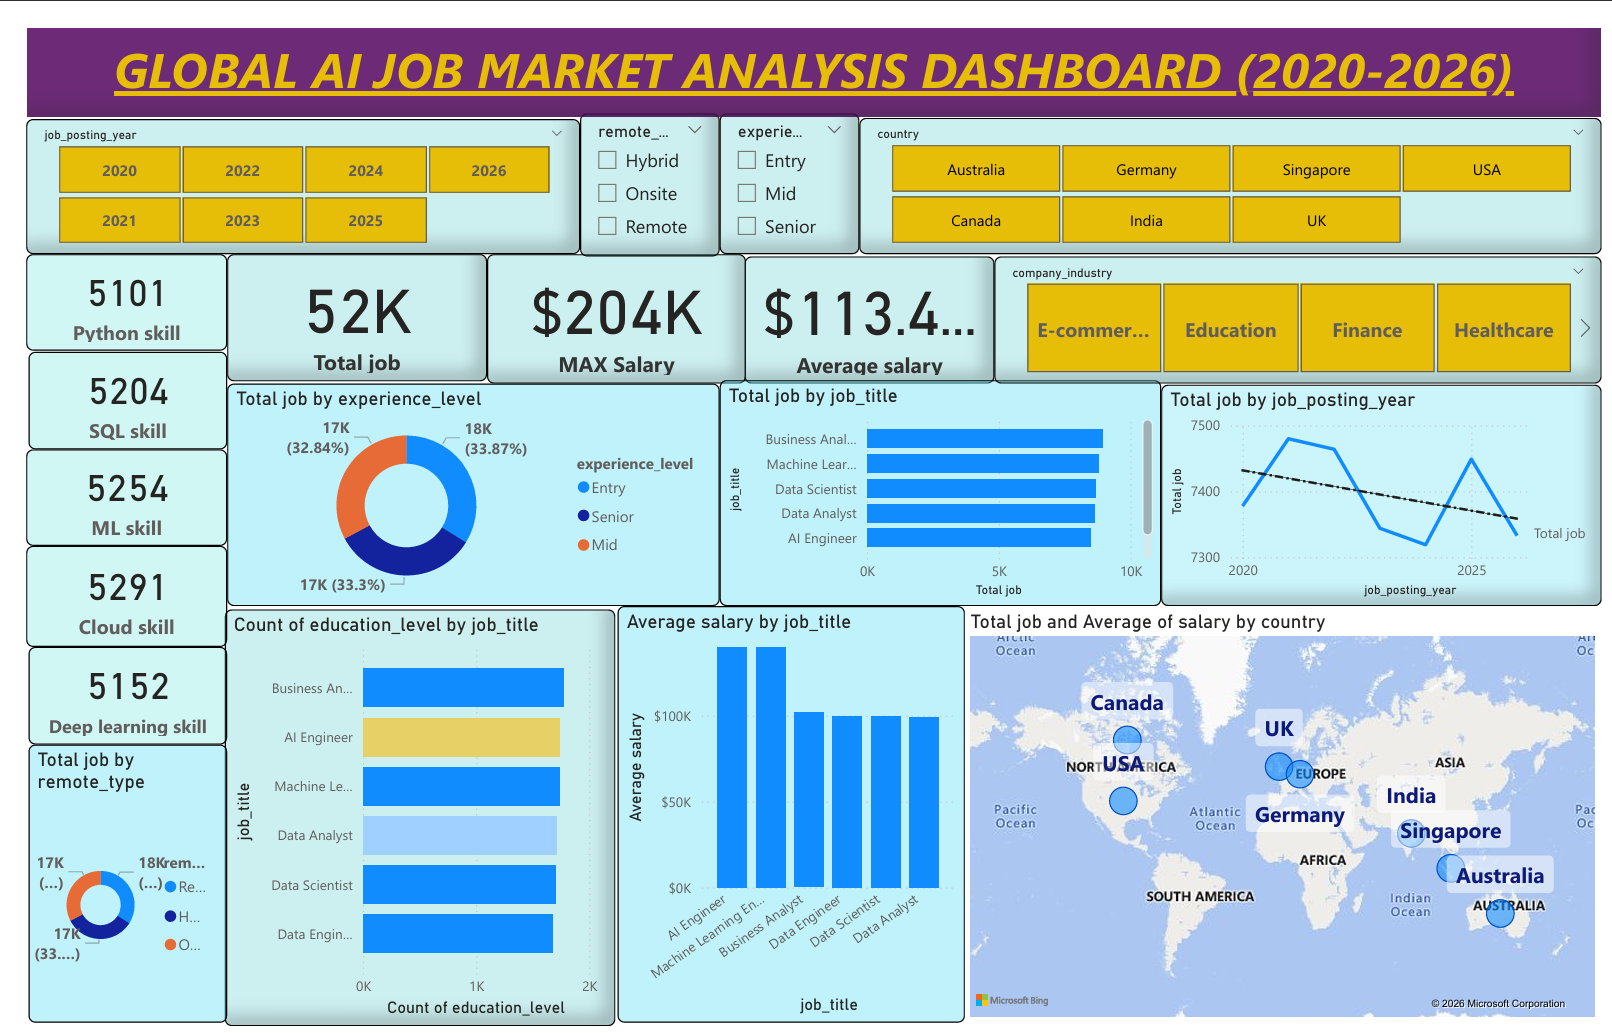

Layout of this report page (visuals, bound fields, positions):
{"tool":"powerbi","page":{"name":"Page 1","canvas":[1388,889],"ordinal":0},"visuals":[{"type":"card","fields":{"Values":["AI Job Market Dataset.MAX Salary"]},"box":[406.2,199.3,228,113.2],"z":0},{"type":"card","fields":{"Values":["AI Job Market Dataset.Total job"]},"box":[176.7,199.3,229.5,111.7],"z":1000},{"type":"card","fields":{"Values":["AI Job Market Dataset.Average salary"]},"box":[632.6,200.8,220.4,111.7],"z":2000},{"type":"lineChart","fields":{"Category":["AI Job Market Dataset.job_posting_year"],"Y":["AI Job Market Dataset.Total job"]},"box":[999.5,314.1,388,194.8],"z":3000},{"type":"map","fields":{"Category":["AI Job Market Dataset.country"],"Y":["AI Job Market Dataset.Total job"],"Size":["Avg(AI Job Market Dataset.salary)"]},"box":[827.4,511.8,560.2,363.9],"z":4000},{"type":"clusteredBarChart","fields":{"Category":["AI Job Market Dataset.job_title"],"Y":["AI Job Market Dataset.Total job"]},"box":[611.5,309.5,388,199.3],"z":5000},{"type":"slicer","fields":{"Values":["AI Job Market Dataset.job_posting_year"]},"box":[0,80,487.7,119.3],"z":6000},{"type":"slicer","fields":{"Values":["AI Job Market Dataset.company_industry"]},"box":[853.1,200.8,534.5,111.7],"z":7000},{"type":"barChart","fields":{"Category":["AI Job Market Dataset.job_title"],"Y":["CountNonNull(AI Job Market Dataset.education_level)"]},"box":[175.2,511.6,344.2,367.7],"z":8000},{"type":"donutChart","fields":{"Category":["AI Job Market Dataset.experience_level"],"Y":["AI Job Market Dataset.Total job"]},"box":[176.7,312.5,434.8,196.3],"z":9000},{"type":"slicer","fields":{"Values":["AI Job Market Dataset.experience_level"]},"box":[611.5,75.5,122.3,123.8],"z":10000},{"type":"slicer","fields":{"Values":["AI Job Market Dataset.country"]},"box":[733.8,78.5,653.8,120.8],"z":11000},{"type":"slicer","fields":{"Values":["AI Job Market Dataset.remote_type"]},"box":[487.7,75.5,123.8,125.3],"z":12000},{"type":"clusteredColumnChart","fields":{"Y":["AI Job Market Dataset.Average salary"],"Category":["AI Job Market Dataset.job_title"]},"box":[520.9,508.8,306.5,366.9],"z":13000},{"type":"donutChart","fields":{"Category":["AI Job Market Dataset.remote_type"],"Y":["AI Job Market Dataset.Total job"]},"box":[1.5,631.1,175.1,244.6],"z":15000},{"type":"card","fields":{"Values":["AI Job Market Dataset.PYTHON Job"]},"box":[0,199.3,176.7,84.6],"z":16001},{"type":"card","fields":{"Values":["AI Job Market Dataset.ML JOB"]},"box":[0,371.4,176.7,84.6],"z":16002},{"type":"card","fields":{"Values":["AI Job Market Dataset.SQLJob"]},"box":[1.5,285.4,175.1,86.1],"z":16003},{"type":"card","fields":{"Values":["AI Job Market Dataset.DEEP LEARNING"]},"box":[1.5,545.1,175.1,86.1],"z":16004},{"type":"card","fields":{"Values":["AI Job Market Dataset.CLOUD JOB"]},"box":[0,456,176.7,89.1],"z":16005},{"type":"textbox","box":[1.4,0,1385.7,78],"z":16006}]}

Visuals, with their boxes in screenshot pixels (x1, y1, x2, y2), scaled from the page's 1388x889 canvas onto the 1612x1033 screenshot:
card - AI Job Market Dataset.MAX Salary: bbox=[472, 232, 737, 363]
card - AI Job Market Dataset.Total job: bbox=[205, 232, 472, 361]
card - AI Job Market Dataset.Average salary: bbox=[735, 233, 991, 363]
lineChart - AI Job Market Dataset.job_posting_year x AI Job Market Dataset.Total job: bbox=[1161, 365, 1611, 591]
map - AI Job Market Dataset.country x AI Job Market Dataset.Total job: bbox=[961, 595, 1611, 1018]
clusteredBarChart - AI Job Market Dataset.job_title x AI Job Market Dataset.Total job: bbox=[710, 360, 1161, 591]
slicer - AI Job Market Dataset.job_posting_year: bbox=[0, 93, 566, 232]
slicer - AI Job Market Dataset.company_industry: bbox=[991, 233, 1611, 363]
barChart - AI Job Market Dataset.job_title x CountNonNull(AI Job Market Dataset.education_level): bbox=[203, 594, 603, 1022]
donutChart - AI Job Market Dataset.experience_level x AI Job Market Dataset.Total job: bbox=[205, 363, 710, 591]
slicer - AI Job Market Dataset.experience_level: bbox=[710, 88, 852, 232]
slicer - AI Job Market Dataset.country: bbox=[852, 91, 1611, 232]
slicer - AI Job Market Dataset.remote_type: bbox=[566, 88, 710, 233]
clusteredColumnChart - AI Job Market Dataset.Average salary x AI Job Market Dataset.job_title: bbox=[605, 591, 961, 1018]
donutChart - AI Job Market Dataset.remote_type x AI Job Market Dataset.Total job: bbox=[2, 733, 205, 1018]
card - AI Job Market Dataset.PYTHON Job: bbox=[0, 232, 205, 330]
card - AI Job Market Dataset.ML JOB: bbox=[0, 432, 205, 530]
card - AI Job Market Dataset.SQLJob: bbox=[2, 332, 205, 432]
card - AI Job Market Dataset.DEEP LEARNING: bbox=[2, 633, 205, 733]
card - AI Job Market Dataset.CLOUD JOB: bbox=[0, 530, 205, 633]
textbox: bbox=[2, 0, 1611, 91]
